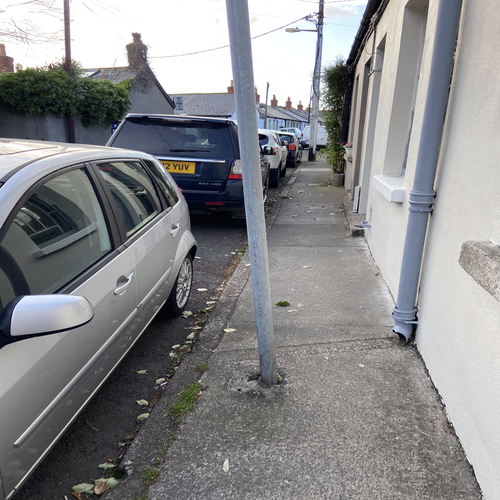Car: (1, 126, 198, 384), (125, 106, 253, 218)
